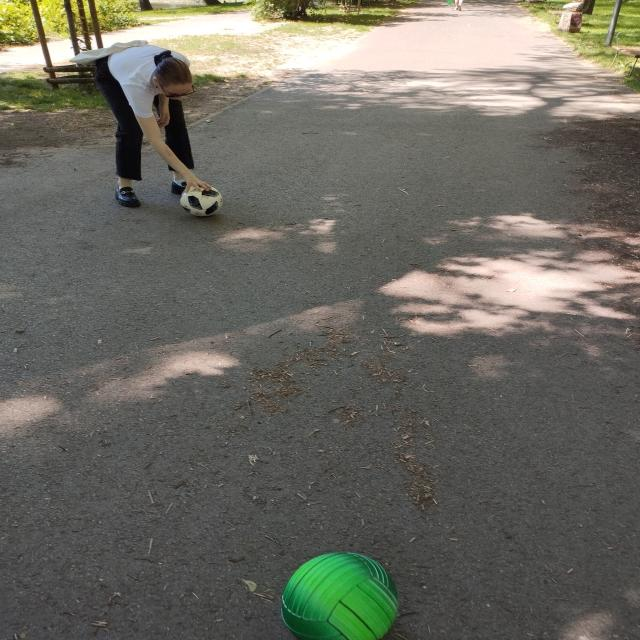nozna: (180, 184, 223, 217)
zielona: (282, 552, 400, 640)
